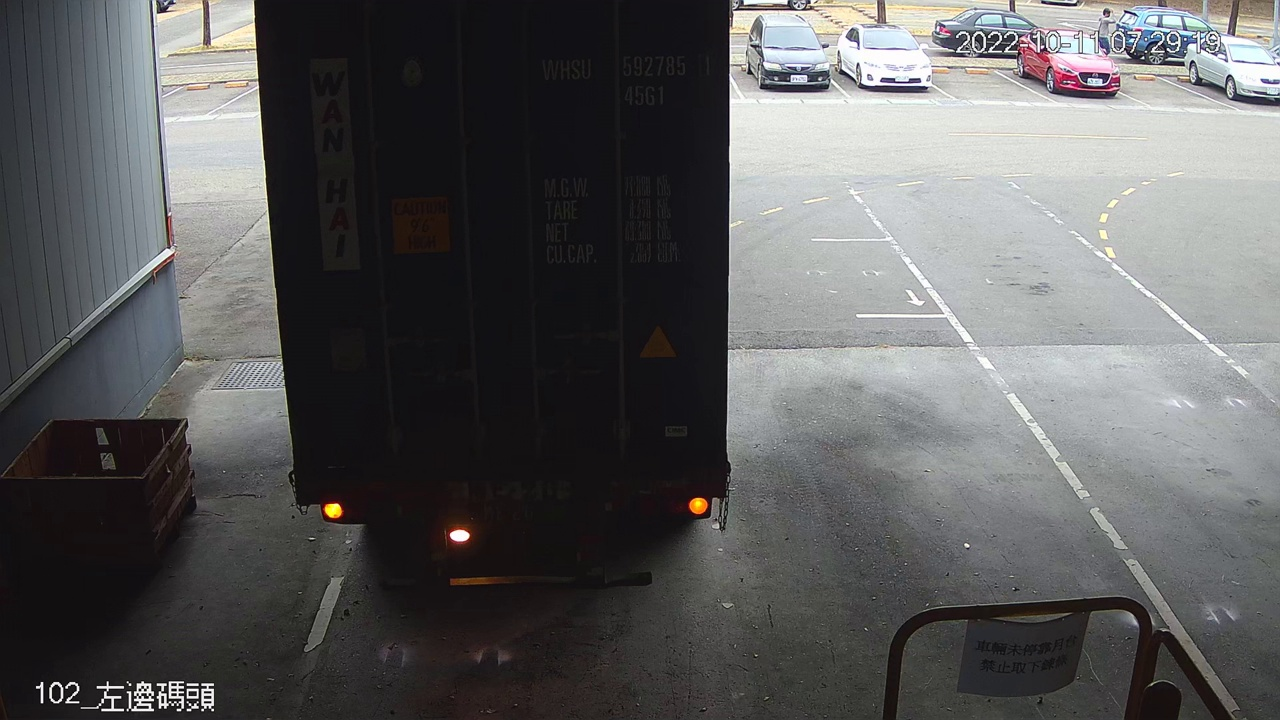container: (534, 47, 720, 112)
